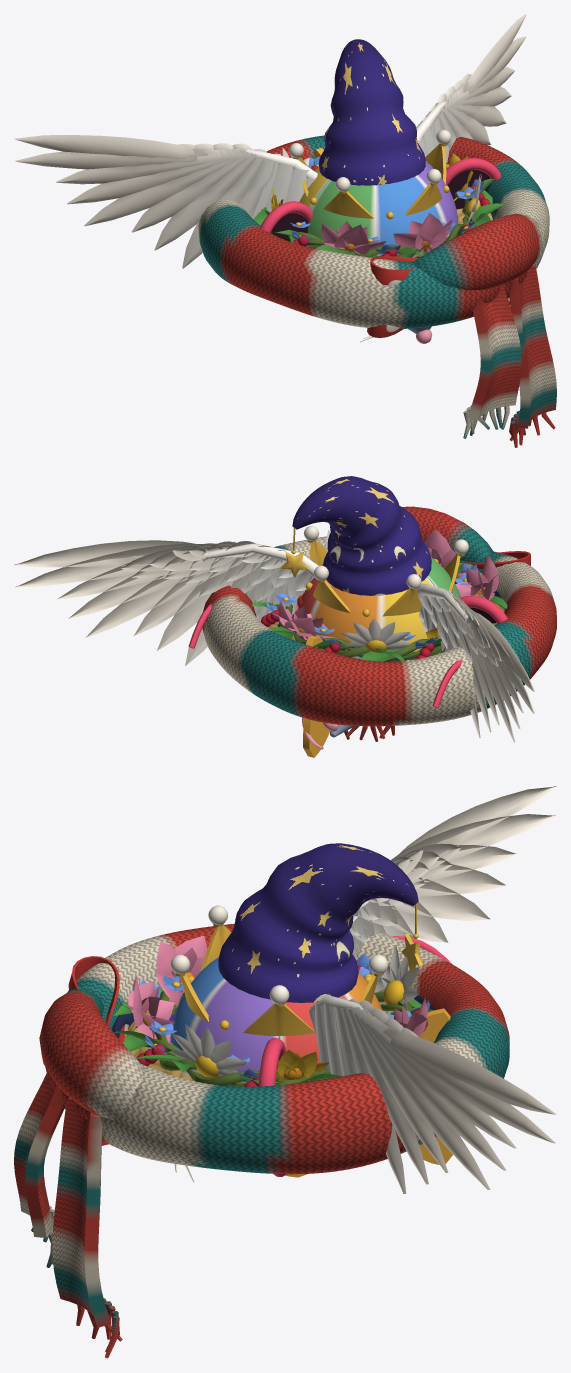
The model's file is outfits.glb.
3 views of the same model, one above another, from view 1: azimuth 30°, elevation 25°; view 2: azimuth 150°, elevation 25°; view 3: azimuth 270°, elevation 25° (orthographic). The views are drawn at different scales.
Parts seen in each view (by area): view 1: Scarf, Wing_R, WizardHat, FlowerCrown, Wing_L, ToyBall, Crown, Shades, BowTie; view 2: Scarf, Wing_L, WizardHat, FlowerCrown, Wing_R, ToyBall, Crown, ToyFish, Shades, BowTie, Temple_R, ToyMouse; view 3: Scarf, Wing_L, WizardHat, Wing_R, FlowerCrown, ToyBall, Crown, BowTie, ToyFish, Shades.
Part boxes in pixels (left/top/right/bottom): Scarf: left=198, top=135, right=556, bottom=447; Wing_R: left=14, top=135, right=317, bottom=268; WizardHat: left=319, top=39, right=425, bottom=258; FlowerCrown: left=253, top=147, right=506, bottom=258; Wing_L: left=416, top=14, right=526, bottom=163; ToyBall: left=299, top=162, right=458, bottom=255; Crown: left=289, top=129, right=451, bottom=219; Shades: left=260, top=158, right=501, bottom=241; BowTie: left=367, top=256, right=510, bottom=337; Scarf: left=202, top=506, right=556, bottom=741; Wing_L: left=14, top=540, right=318, bottom=665; WizardHat: left=277, top=476, right=431, bottom=661; FlowerCrown: left=252, top=529, right=507, bottom=661; Wing_R: left=417, top=583, right=534, bottom=742; ToyBall: left=298, top=557, right=460, bottom=658; Crown: left=304, top=525, right=468, bottom=616; ToyFish: left=303, top=636, right=330, bottom=757; Shades: left=289, top=550, right=507, bottom=623; BowTie: left=255, top=551, right=530, bottom=616; Temple_R: left=432, top=659, right=462, bottom=708; ToyMouse: left=302, top=717, right=354, bottom=749; Scarf: left=14, top=923, right=509, bottom=1358; Wing_L: left=308, top=995, right=556, bottom=1193; WizardHat: left=133, top=843, right=423, bottom=1032; Wing_R: left=349, top=786, right=556, bottom=958; FlowerCrown: left=113, top=935, right=433, bottom=1086; ToyBall: left=170, top=957, right=382, bottom=1079; Crown: left=170, top=905, right=388, bottom=1035; BowTie: left=68, top=956, right=435, bottom=1145; ToyFish: left=285, top=1008, right=452, bottom=1177; Shades: left=258, top=1038, right=286, bottom=1176.
Size of the model in its own units: 0.2408 by 0.1542 by 0.1684.
Materials: 47 (4 with a texture image).
